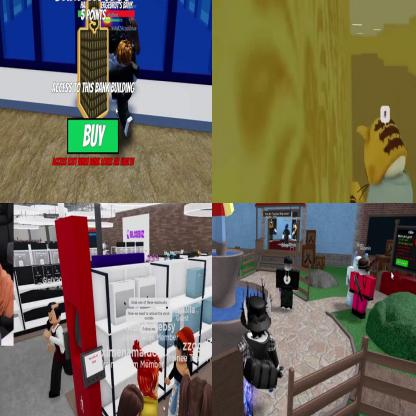Roblox-Avatar: (238, 277, 286, 416), (351, 118, 416, 203), (45, 303, 74, 400), (165, 327, 196, 416), (131, 340, 164, 416), (113, 40, 138, 137), (350, 256, 378, 321), (172, 374, 212, 416), (277, 256, 301, 310), (116, 384, 148, 416), (213, 204, 237, 245), (271, 219, 279, 244), (284, 224, 293, 245)
